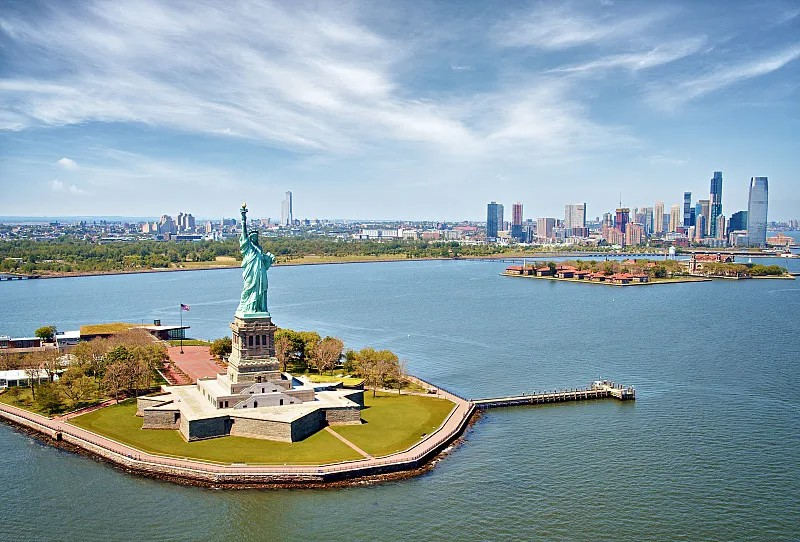SL: (227, 203, 281, 383)
